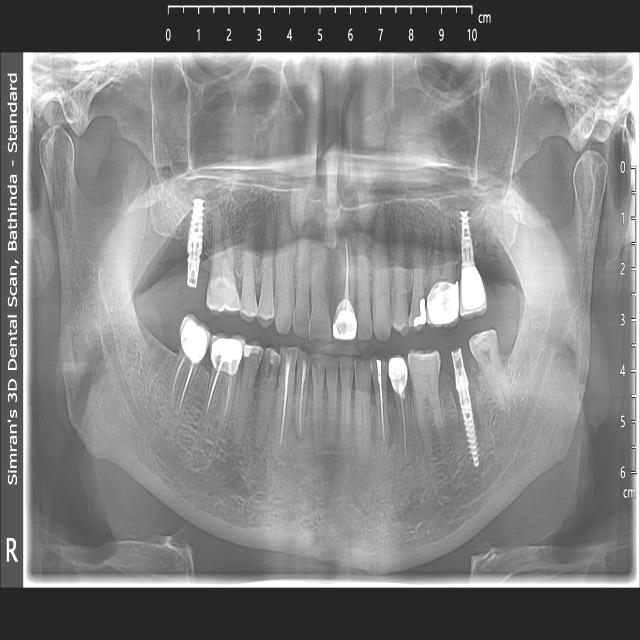Crown: (179, 314, 211, 365), (428, 282, 459, 326), (210, 334, 242, 373), (460, 266, 486, 313), (387, 356, 408, 393)
Filling: (259, 348, 280, 379), (241, 345, 262, 374), (409, 296, 428, 327)
Implant: (450, 347, 479, 467), (186, 198, 205, 286), (458, 210, 474, 267)
Periapical lesion: (251, 422, 271, 462)
Root Canal Treatment: (169, 312, 211, 425), (204, 340, 245, 441), (274, 349, 299, 454), (388, 357, 412, 465), (333, 238, 358, 338), (373, 363, 391, 459), (297, 351, 311, 442)
